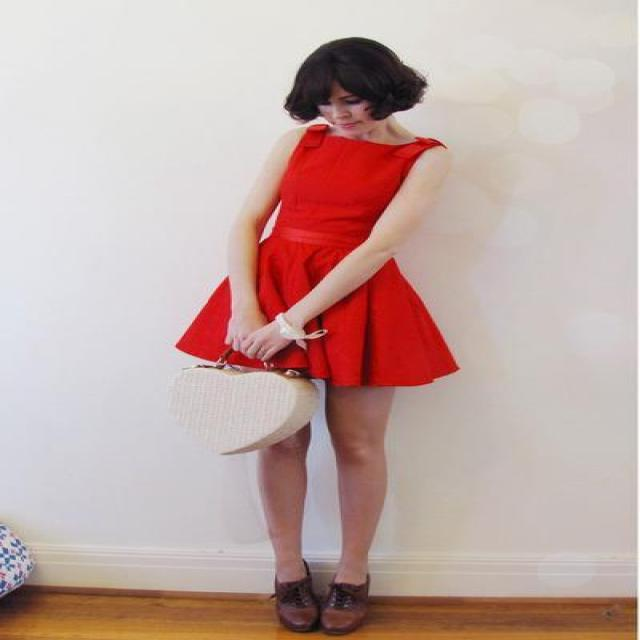dress: (176, 116, 458, 390)
shoe: (268, 576, 386, 639)
